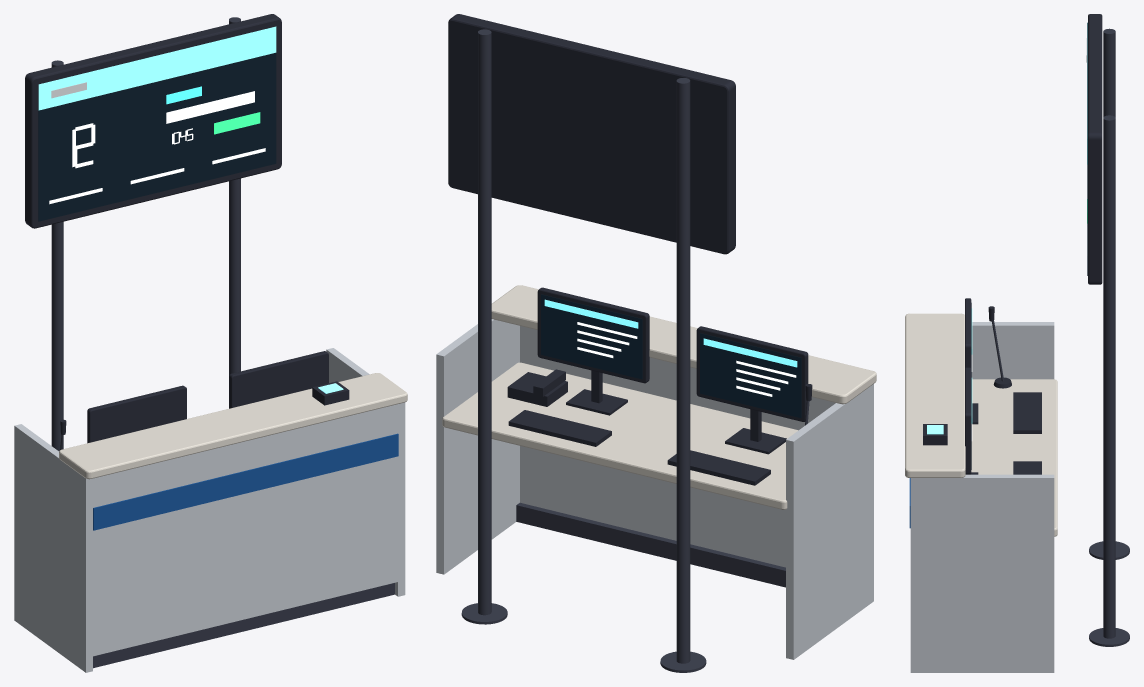
File: air-034.glb
3 views of the same model, side by side, from view 1: azimuth 30°, elevation 25°; view 2: azimuth 150°, elevation 25°; view 3: azimuth 270°, elevation 25° (orthographic). The views are drawn at different scales.
Visible parts, largest first — view 1: counter_panel, monitor_screen, plastic_dark, laminate, dark_steel, airline_blue, pump_screen, display_white; view 2: plastic_dark, counter_panel, dark_steel, laminate, monitor_screen, pump_screen, display_white; view 3: counter_panel, laminate, dark_steel, plastic_dark, pump_screen, monitor_screen.
Boxes of the visible parts, x1,y1,x2,y2 form: counter_panel: (14, 348, 405, 672); monitor_screen: (38, 26, 276, 221); plastic_dark: (25, 14, 349, 443); laminate: (59, 373, 407, 479); dark_steel: (51, 17, 394, 668); airline_blue: (93, 433, 398, 530); pump_screen: (38, 26, 343, 393); display_white: (49, 91, 265, 204); plastic_dark: (448, 14, 812, 485); counter_panel: (436, 319, 873, 659); dark_steel: (461, 29, 809, 672); laminate: (442, 285, 876, 509); monitor_screen: (541, 294, 801, 417); pump_screen: (544, 299, 797, 367); display_white: (577, 322, 796, 396); counter_panel: (910, 322, 1054, 672); laminate: (905, 313, 1057, 536); dark_steel: (992, 28, 1129, 646); plastic_dark: (923, 14, 1102, 474); pump_screen: (927, 23, 1087, 434); monitor_screen: (971, 22, 1087, 469).
Bounding box in the file's own units: 1.82 × 2.81 × 1.1.
